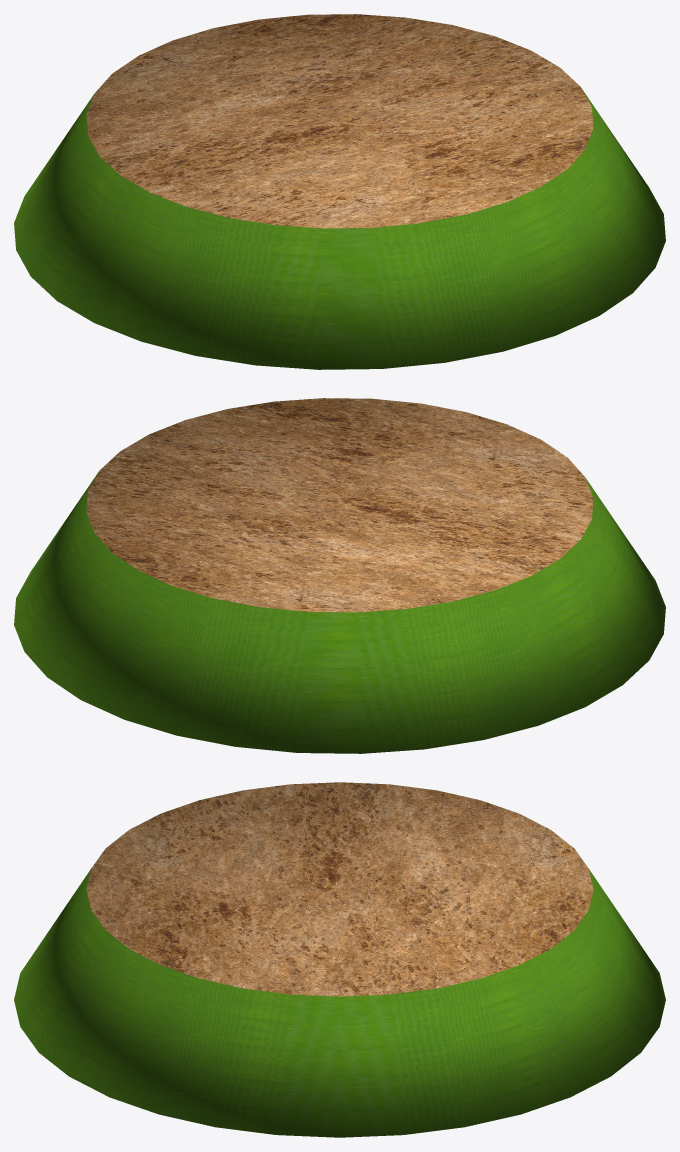
The model's file is sutege.glb.
The picture shows the model from 3 angles, top to bottom: view 1: azimuth 30°, elevation 25°; view 2: azimuth 150°, elevation 25°; view 3: azimuth 270°, elevation 25°; orthographic projection.
Parts seen in each view (by area): view 1: Cylinder; view 2: Cylinder; view 3: Cylinder.
Boxes of the visible parts, <box> form: Cylinder: <box>14,14,665,369</box>; Cylinder: <box>14,398,665,753</box>; Cylinder: <box>14,782,665,1137</box>.
Size of the model in its own units: 3.6 by 0.6733 by 3.6.
1 material, 1 textured.
